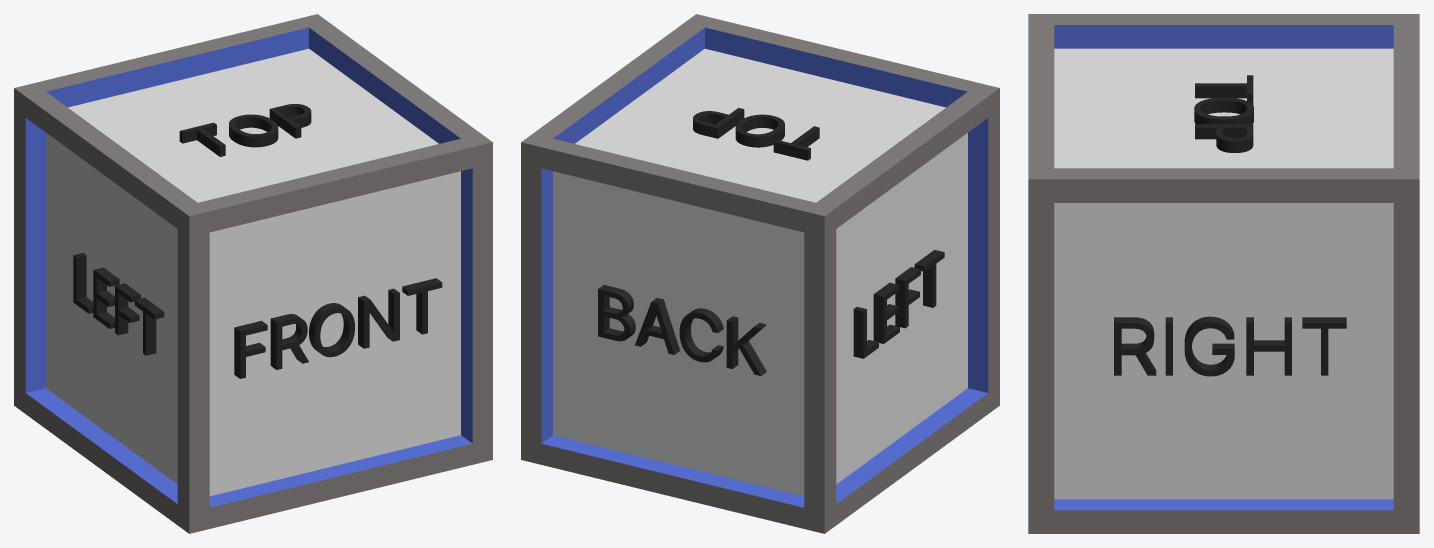
Rendered from cube-sides.glb.
The picture shows the model from 3 angles, left to right: view 1: azimuth 30°, elevation 25°; view 2: azimuth 150°, elevation 25°; view 3: azimuth 270°, elevation 25°; orthographic projection. The views are drawn at different scales.
Parts seen in each view (by area): view 1: Cube, Text, Text.001, Text.004; view 2: Cube, Text.003, Text.001, Text.004; view 3: Cube, Text.002, Text.004.
Boxes of the visible parts, x1,y1,x2,y2 form: Cube: [14, 14, 492, 533]; Text: [234, 278, 442, 378]; Text.001: [73, 252, 164, 355]; Text.004: [179, 104, 311, 156]; Cube: [521, 14, 999, 533]; Text.003: [598, 285, 766, 375]; Text.001: [853, 250, 944, 358]; Text.004: [693, 107, 819, 160]; Cube: [1028, 14, 1419, 533]; Text.002: [1114, 316, 1346, 376]; Text.004: [1194, 75, 1253, 152].
Bounding box in the file's own units: 0.3 × 0.3 × 0.3.
